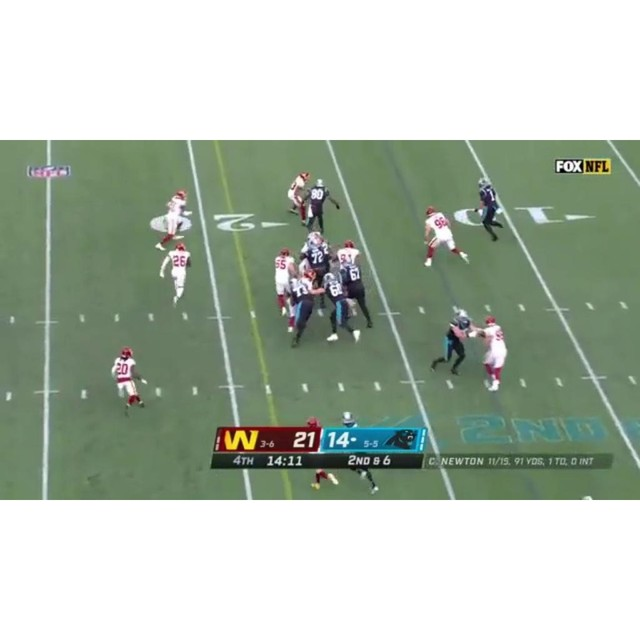american-football-player: (320, 272, 361, 345), (422, 206, 469, 268), (430, 311, 474, 376), (338, 253, 375, 330), (474, 315, 508, 392), (112, 347, 148, 416), (287, 271, 318, 347), (155, 189, 191, 250), (474, 178, 506, 243), (160, 242, 192, 305), (305, 179, 338, 234), (273, 247, 296, 318), (288, 171, 310, 226)
